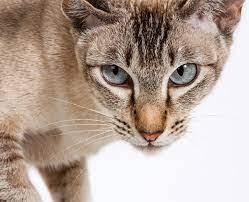Cat: (60, 0, 245, 156)
